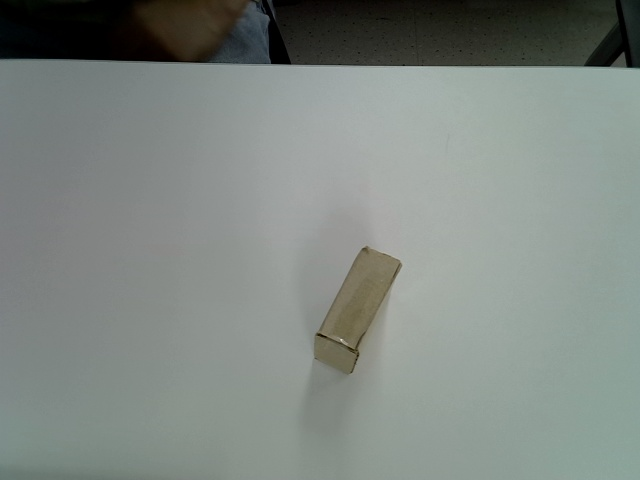normal: (315, 247, 403, 374)
